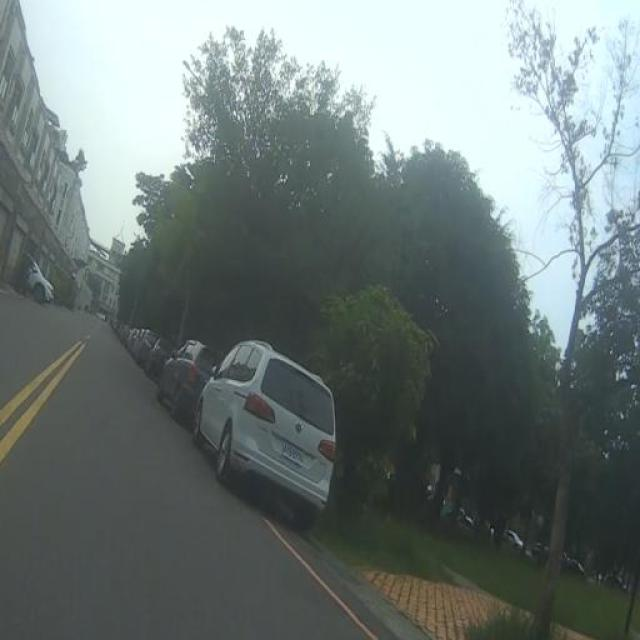Legalparking: (81, 291, 343, 524)
